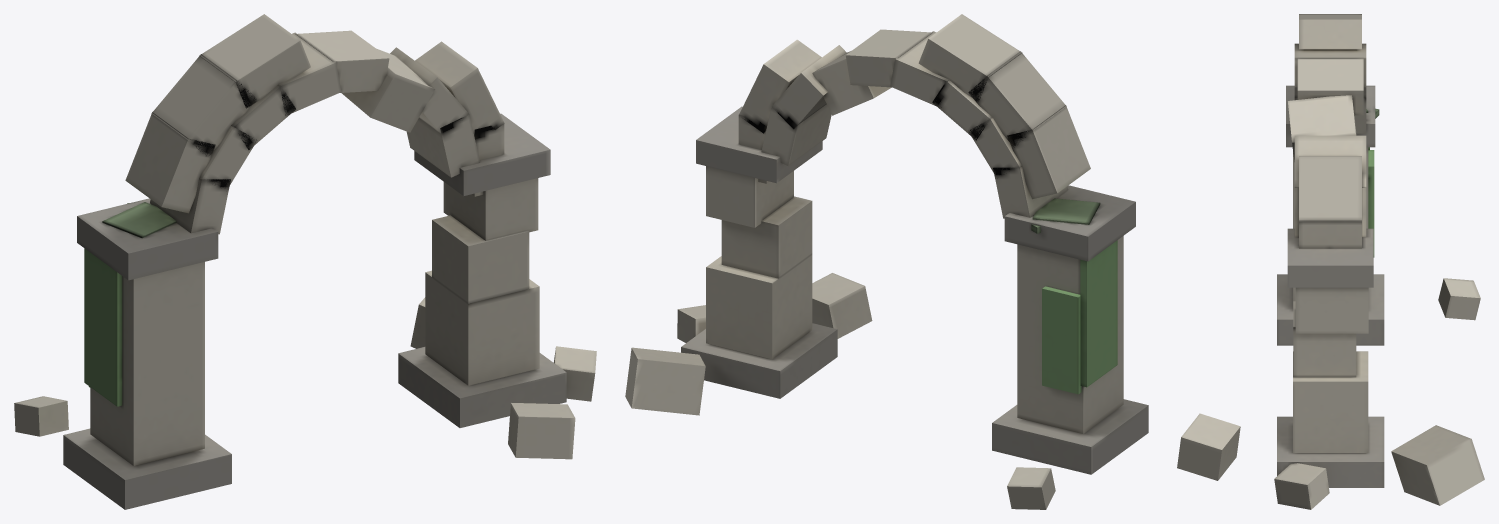
The model's file is brokenarch.glb.
3 views of the same model, side by side, from view 1: azimuth 30°, elevation 25°; view 2: azimuth 150°, elevation 25°; view 3: azimuth 270°, elevation 25° (orthographic). The views are drawn at different scales.
Parts seen in each view (by area): view 1: brokenarch; view 2: brokenarch; view 3: brokenarch.
Boxes of the visible parts, box(x1,y1,x2,y2) form: brokenarch: box(14, 14, 596, 509); brokenarch: box(625, 14, 1148, 509); brokenarch: box(1177, 14, 1484, 509).
Size of the model in its own units: 6.87 by 5.78 by 4.3.
Materials: 4 (4 with a texture image).
